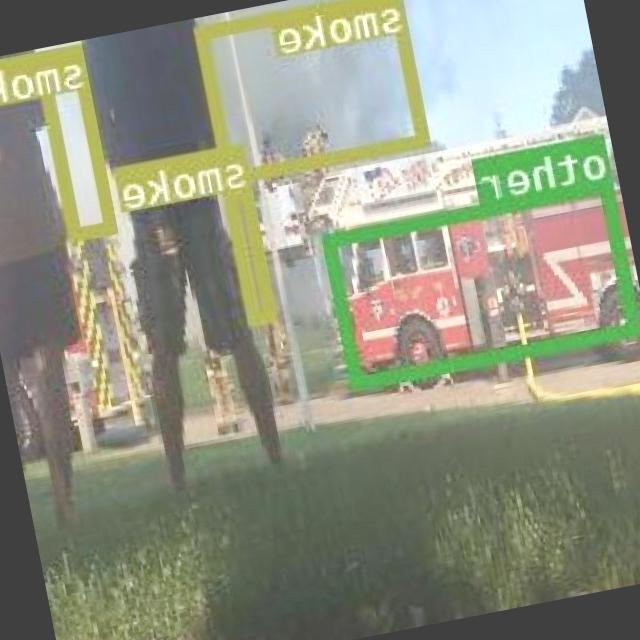smoke: (198, 0, 433, 183), (34, 42, 121, 238), (227, 187, 280, 324)
